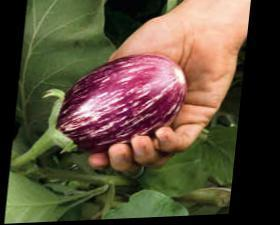eggplant: (23, 52, 208, 166)
